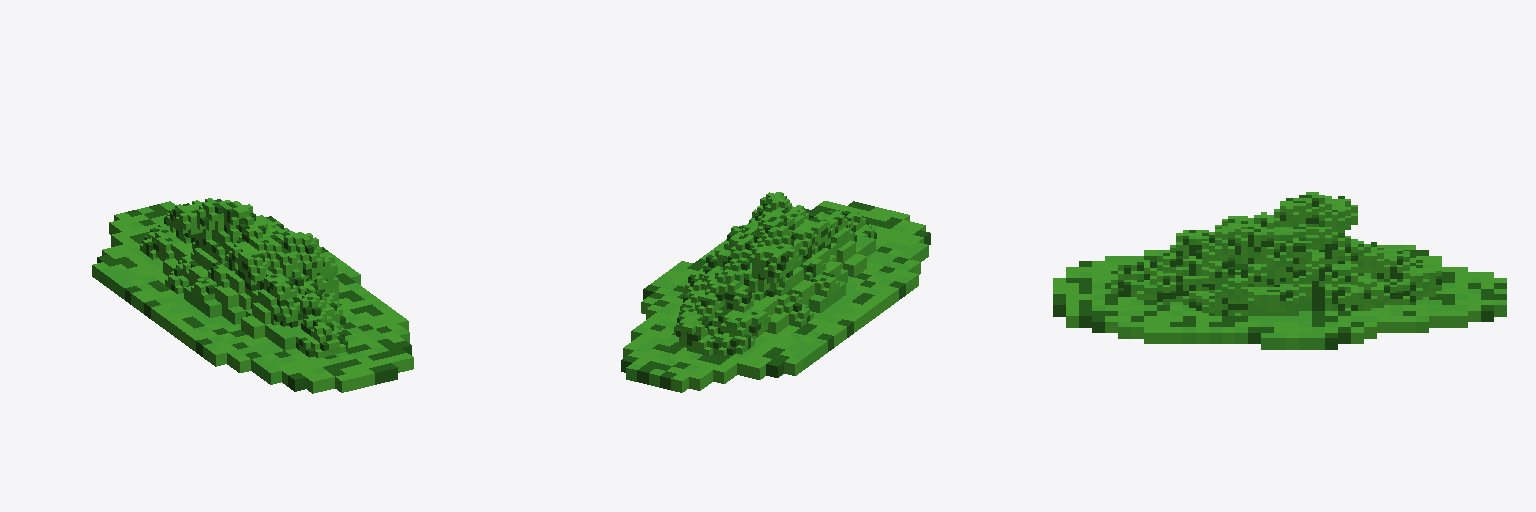
3 renders of one model, left to right at view 1: azimuth 30°, elevation 25°; view 2: azimuth 150°, elevation 25°; view 3: azimuth 270°, elevation 25°, orthographic.
Visible parts, largest first — view 1: bushes-0; view 2: bushes-0; view 3: bushes-0.
Part boxes in pixels (bbox=[...]): bushes-0: bbox=[92, 198, 413, 393]; bushes-0: bbox=[621, 192, 930, 392]; bushes-0: bbox=[1053, 192, 1506, 349].
Size of the model in its own units: 34 by 16 by 70.
1 materials, 1 textured.